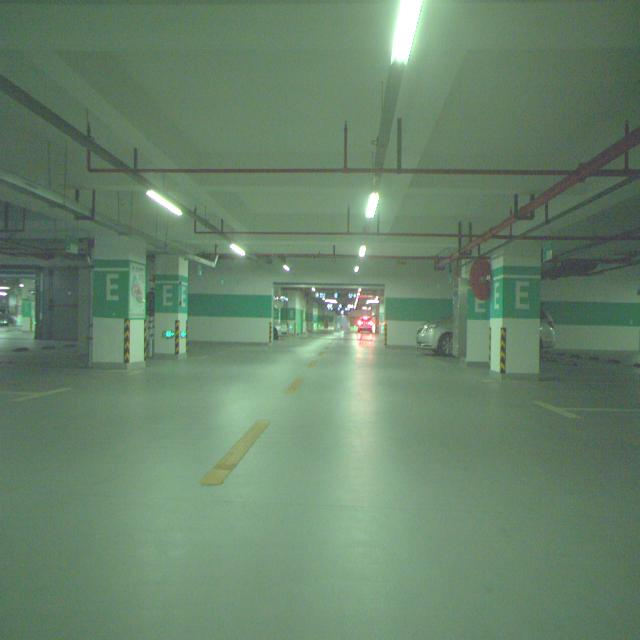pillar: (92, 233, 145, 367), (490, 242, 540, 375), (154, 255, 189, 356)
